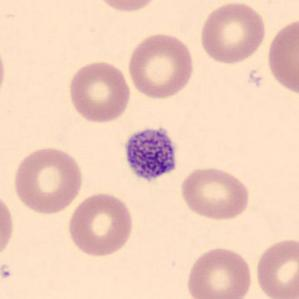Lymphocyte: (118, 123, 182, 186)
Platelets: (119, 124, 182, 187)
RBC: (11, 143, 86, 216), (125, 30, 196, 100), (66, 190, 136, 259), (197, 0, 268, 66), (66, 59, 133, 124), (177, 164, 252, 222), (184, 244, 255, 299), (252, 235, 299, 299), (264, 15, 298, 98), (0, 189, 16, 264), (91, 0, 162, 15), (0, 38, 8, 103)
